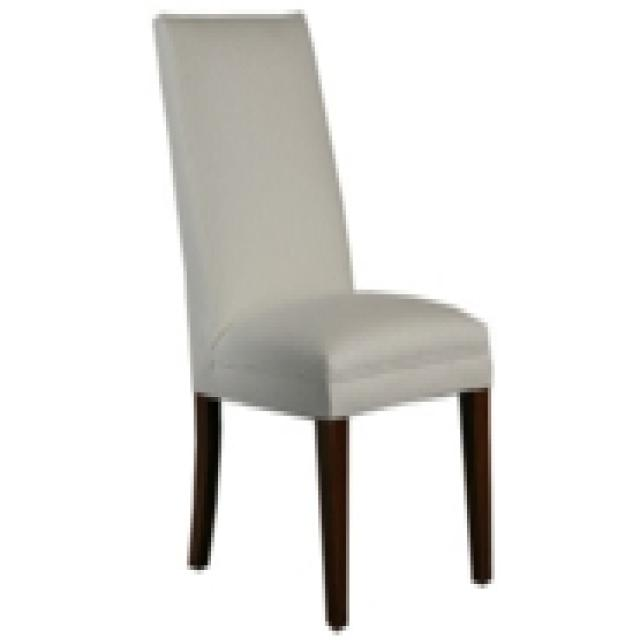chair: (152, 12, 496, 636)
